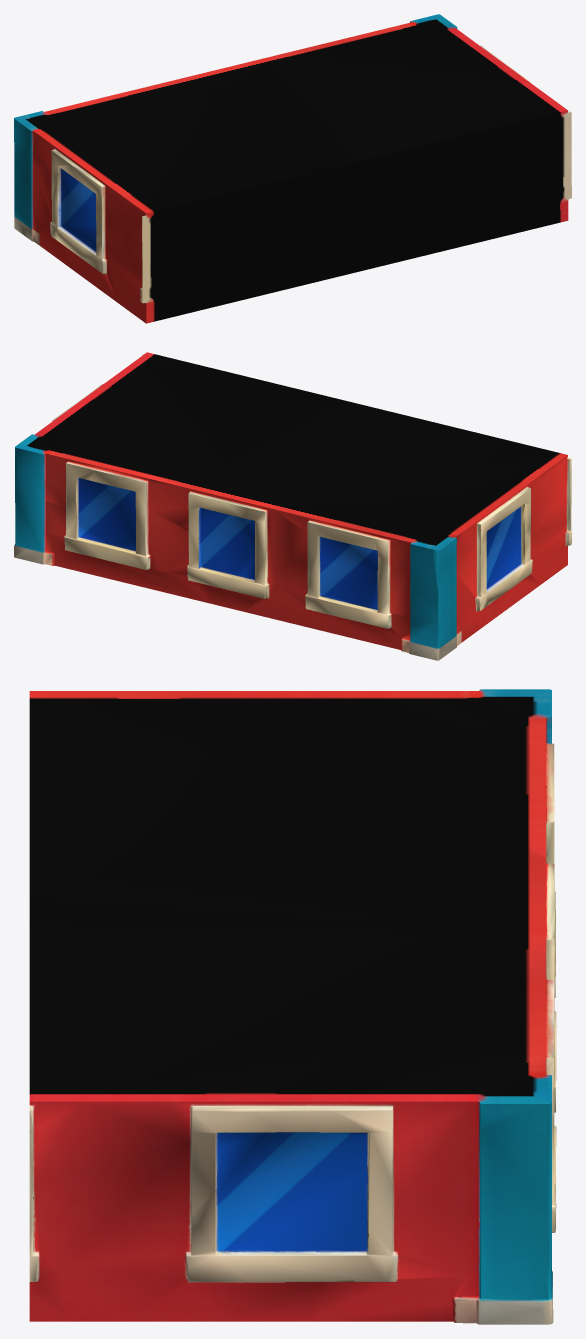
The model's file is 6-upper-walls-back.fbx.
3 views of the same model, one above another, from view 1: azimuth 30°, elevation 25°; view 2: azimuth 150°, elevation 25°; view 3: azimuth 270°, elevation 25° (orthographic). The views are drawn at different scales.
Visible parts, largest first — view 1: upper-walls-back; view 2: upper-walls-back; view 3: upper-walls-back.
Boxes of the visible parts, <box> form: upper-walls-back: <box>14,14,571,323</box>; upper-walls-back: <box>14,352,571,660</box>; upper-walls-back: <box>29,689,556,1324</box>.
Bounding box in the file's own units: 8973 × 2199 × 4774.
Materials: 1 (1 with a texture image).
